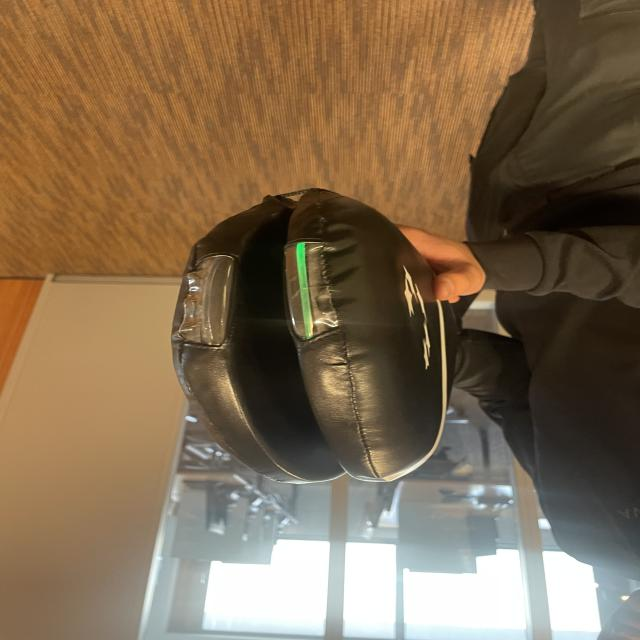paddle: (180, 191, 449, 486)
trigger: (293, 239, 321, 346)
